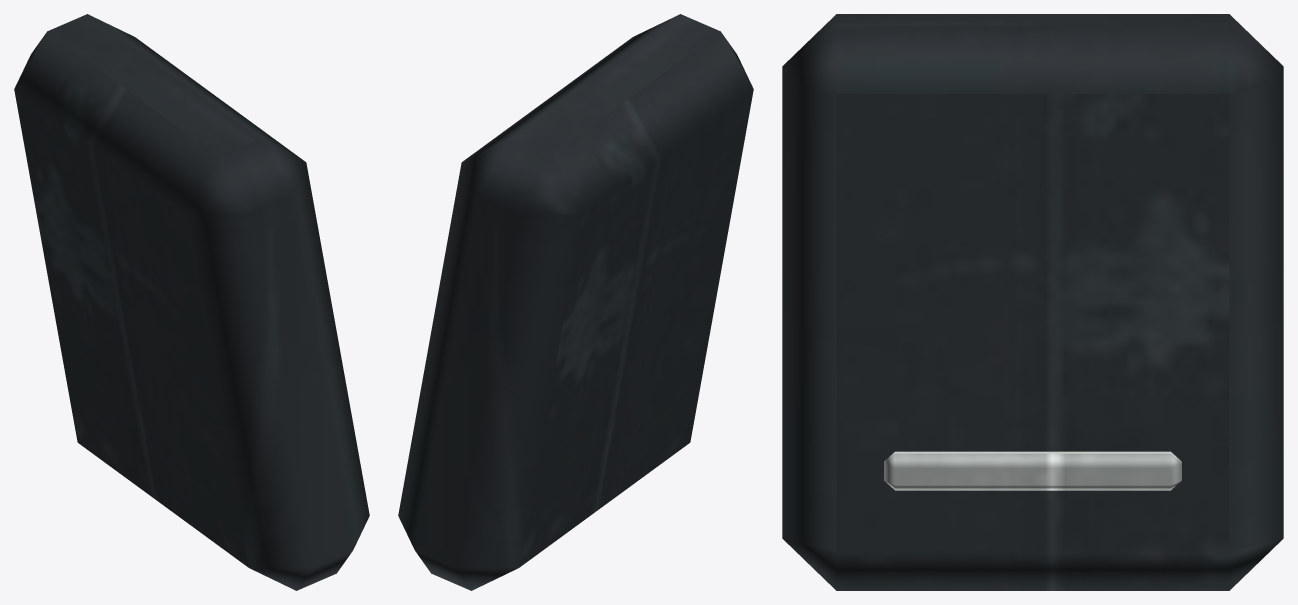
The model's file is prop_reading_lamp.fbx.
3 renders of one model, left to right at view 1: azimuth 30°, elevation 25°; view 2: azimuth 150°, elevation 25°; view 3: azimuth 270°, elevation 25°, orthographic. The views are drawn at different scales.
Parts seen in each view (by area): view 1: SM_prop_reading_lamp; view 2: SM_prop_reading_lamp; view 3: SM_prop_reading_lamp.
Part boxes in pixels (<box>): SM_prop_reading_lamp: <box>14,14,369,590</box>; SM_prop_reading_lamp: <box>398,14,753,590</box>; SM_prop_reading_lamp: <box>782,14,1283,590</box>.
Bounding box in the file's own units: 0.018 × 0.043 × 0.037.
2 materials, 2 textured.
